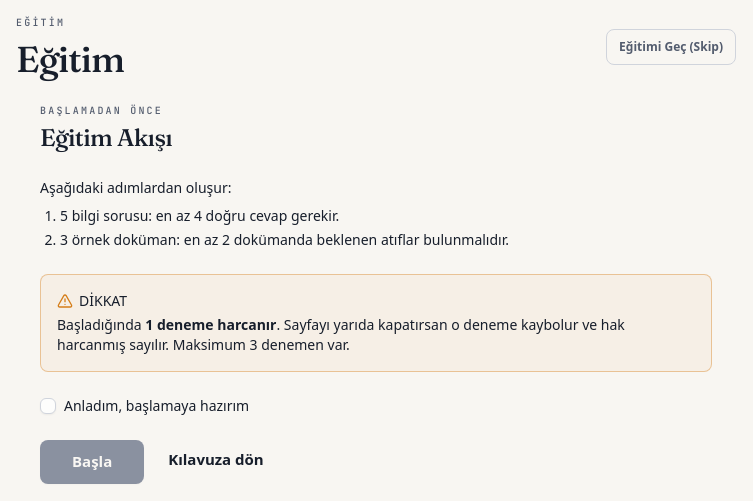
it: Training route — locked out › routes to LockedOutScreen on 403
Expected: the text "1 deneme harcanır" is shown, [145,315,276,334]
Step 1. Click the checkbox → click(48, 406), box [40,398,56,414]
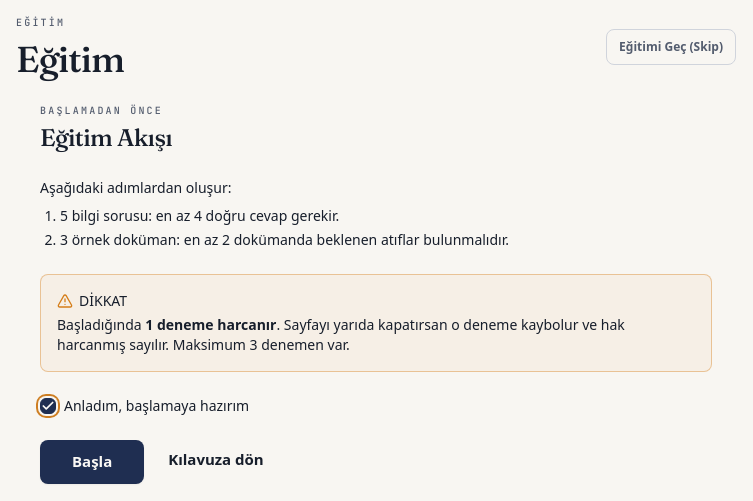
Step 2. Click the button "Başla" → click(92, 462), box [40,440,144,484]
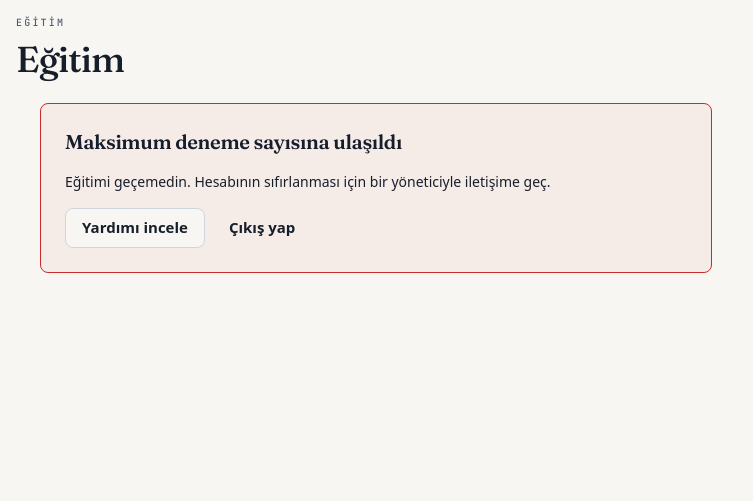
Expected: the heading "Maksimum deneme sayısına ulaşıldı" is shown, [65,128,402,154]
